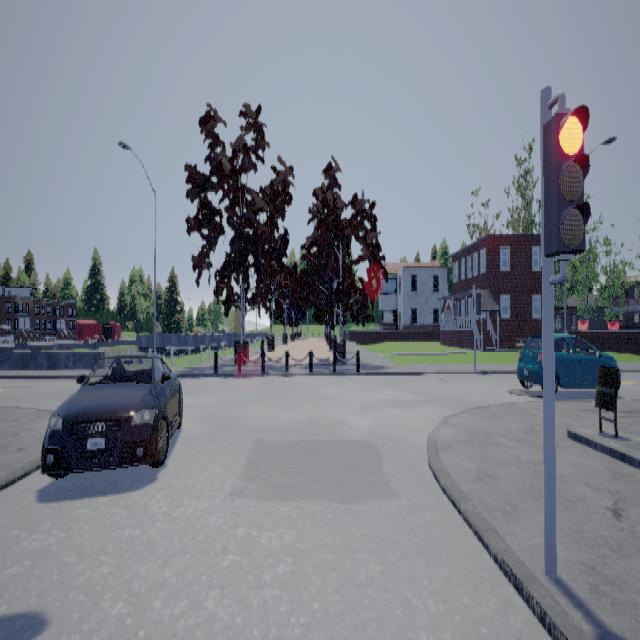red_light: (542, 89, 590, 283)
vehicle: (39, 351, 182, 478), (516, 330, 618, 393)
